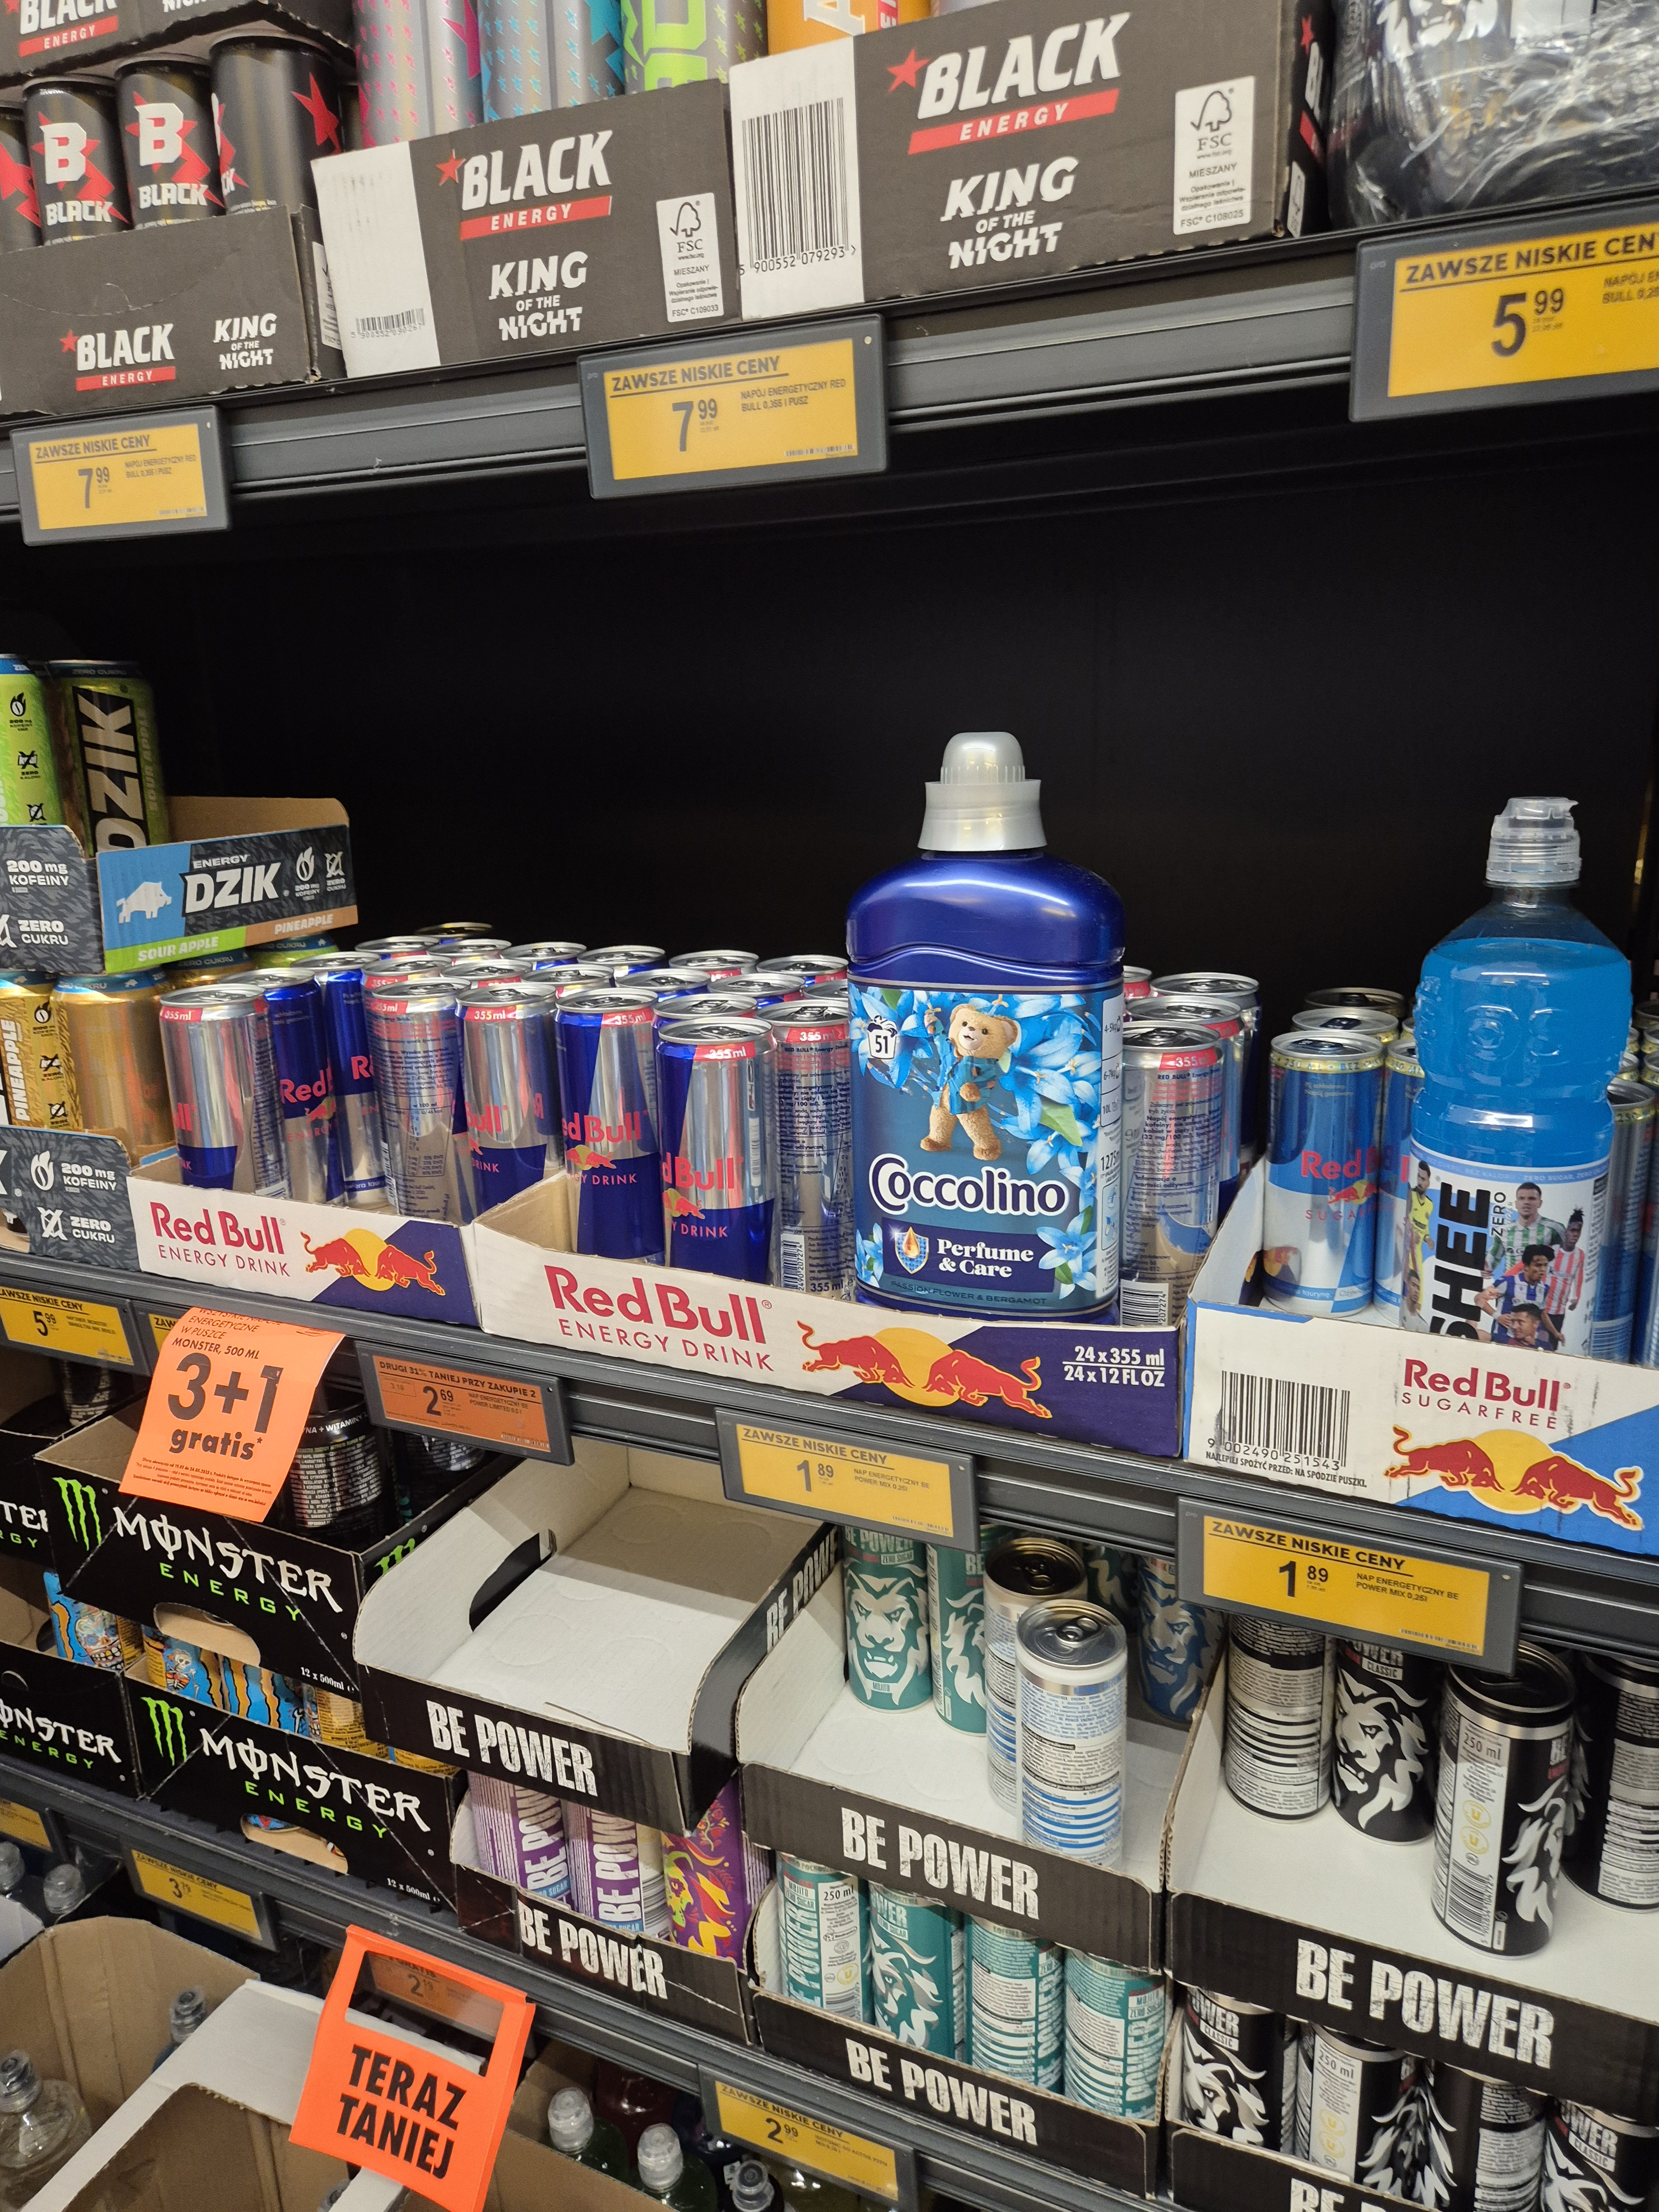cocolino: (802, 721, 1150, 1332)
